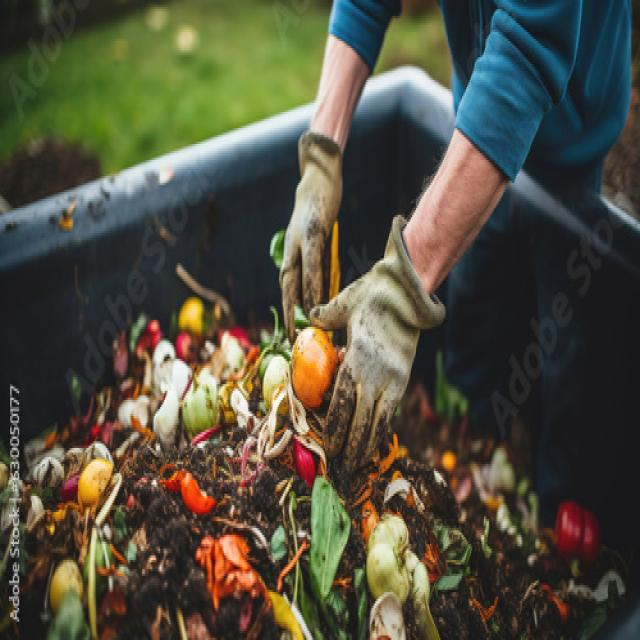trash: (110, 297, 589, 624)
